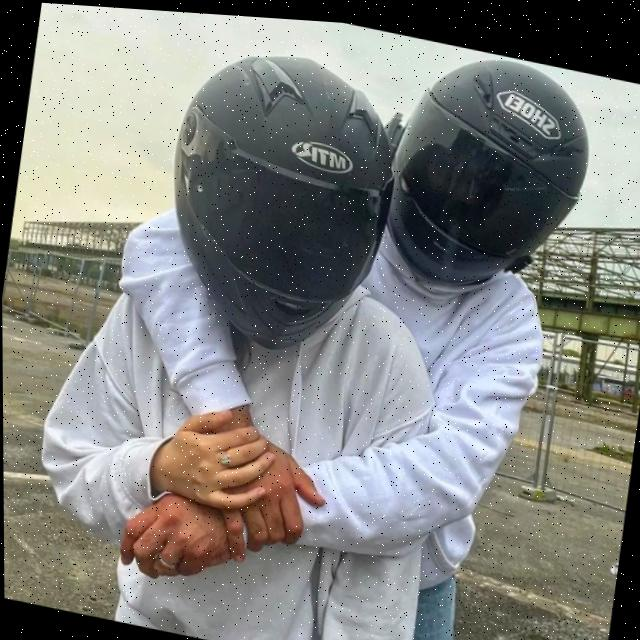helmet: (143, 22, 418, 377), (373, 29, 609, 315)
